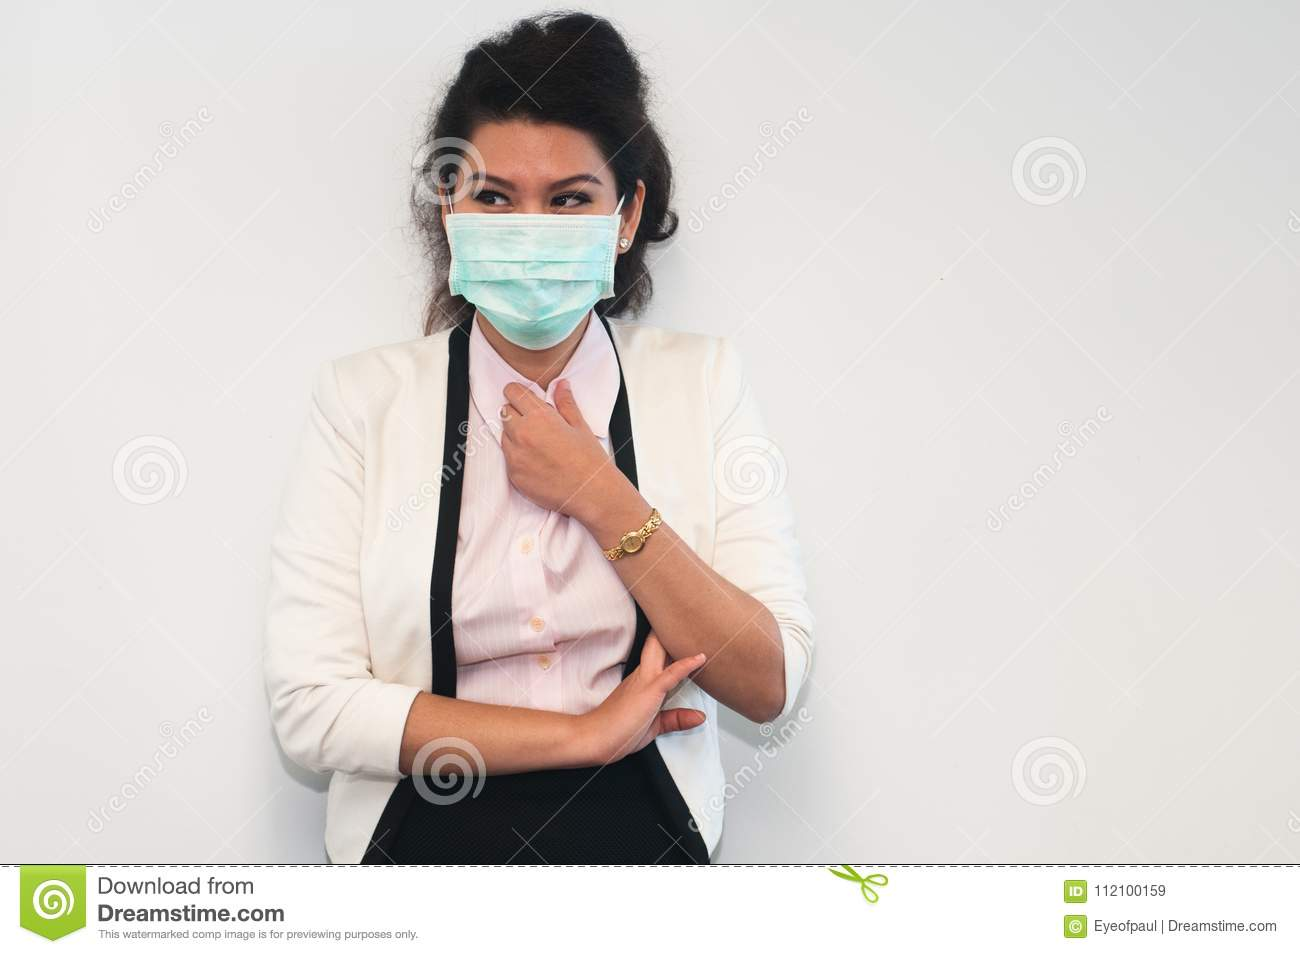mask: (441, 209, 619, 350)
